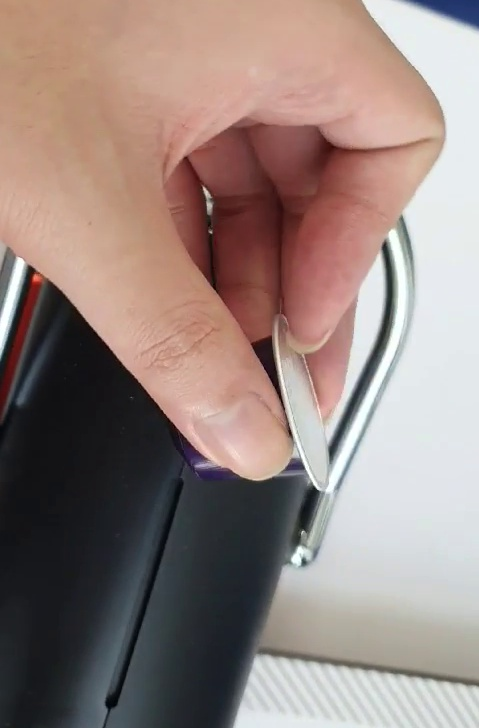capsule_2: (162, 311, 335, 495)
